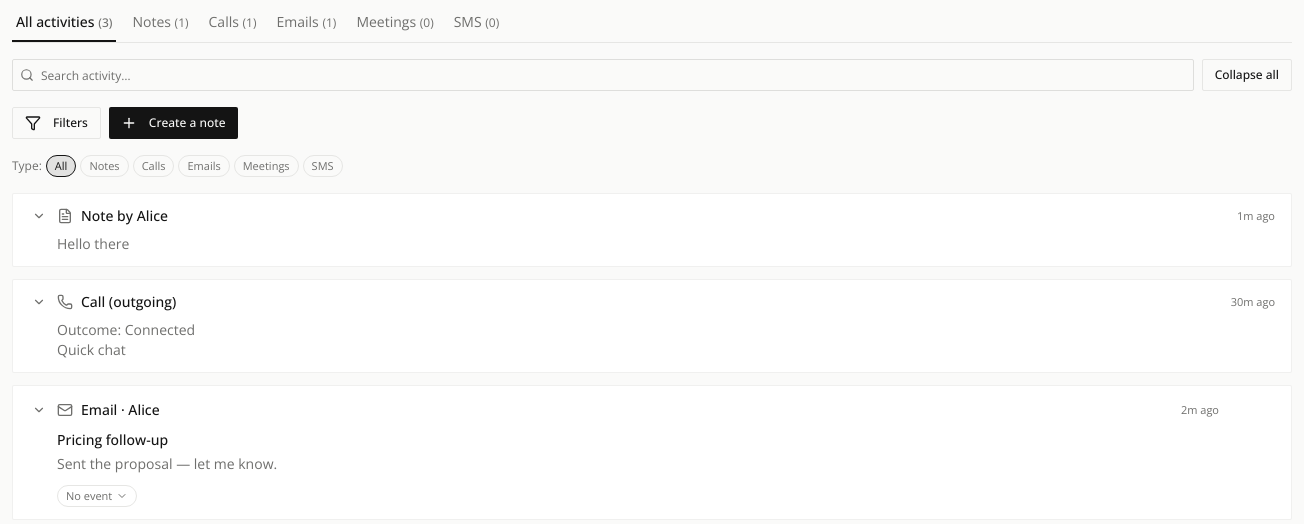
Test: ContactActivityFeed › P-email-log — All-activities Type chip row includes Emails and filters in place
This screenshot has width=1304, height=524.
Expected: the button "Notes" is shown, [80,155,129,177]
Expected: the button "Calls" is shown, [133,155,174,177]
What coordinates should you click on to do the following:
click the button "Emails"
I would click on:
 (204, 166)
Its box is [178,155,230,177].
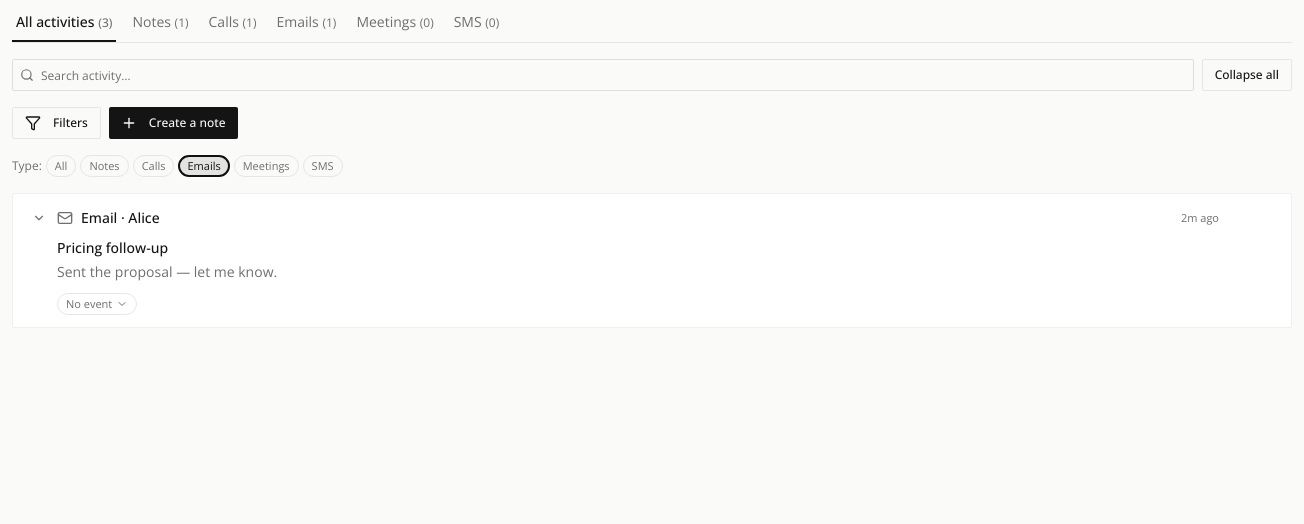
Expected: the text "Pricing follow-up" is shown, [57,238,168,257]
Expected: the heading "Note by Alice" is gone
Expected: the heading "Call (outgoing)" is gone
